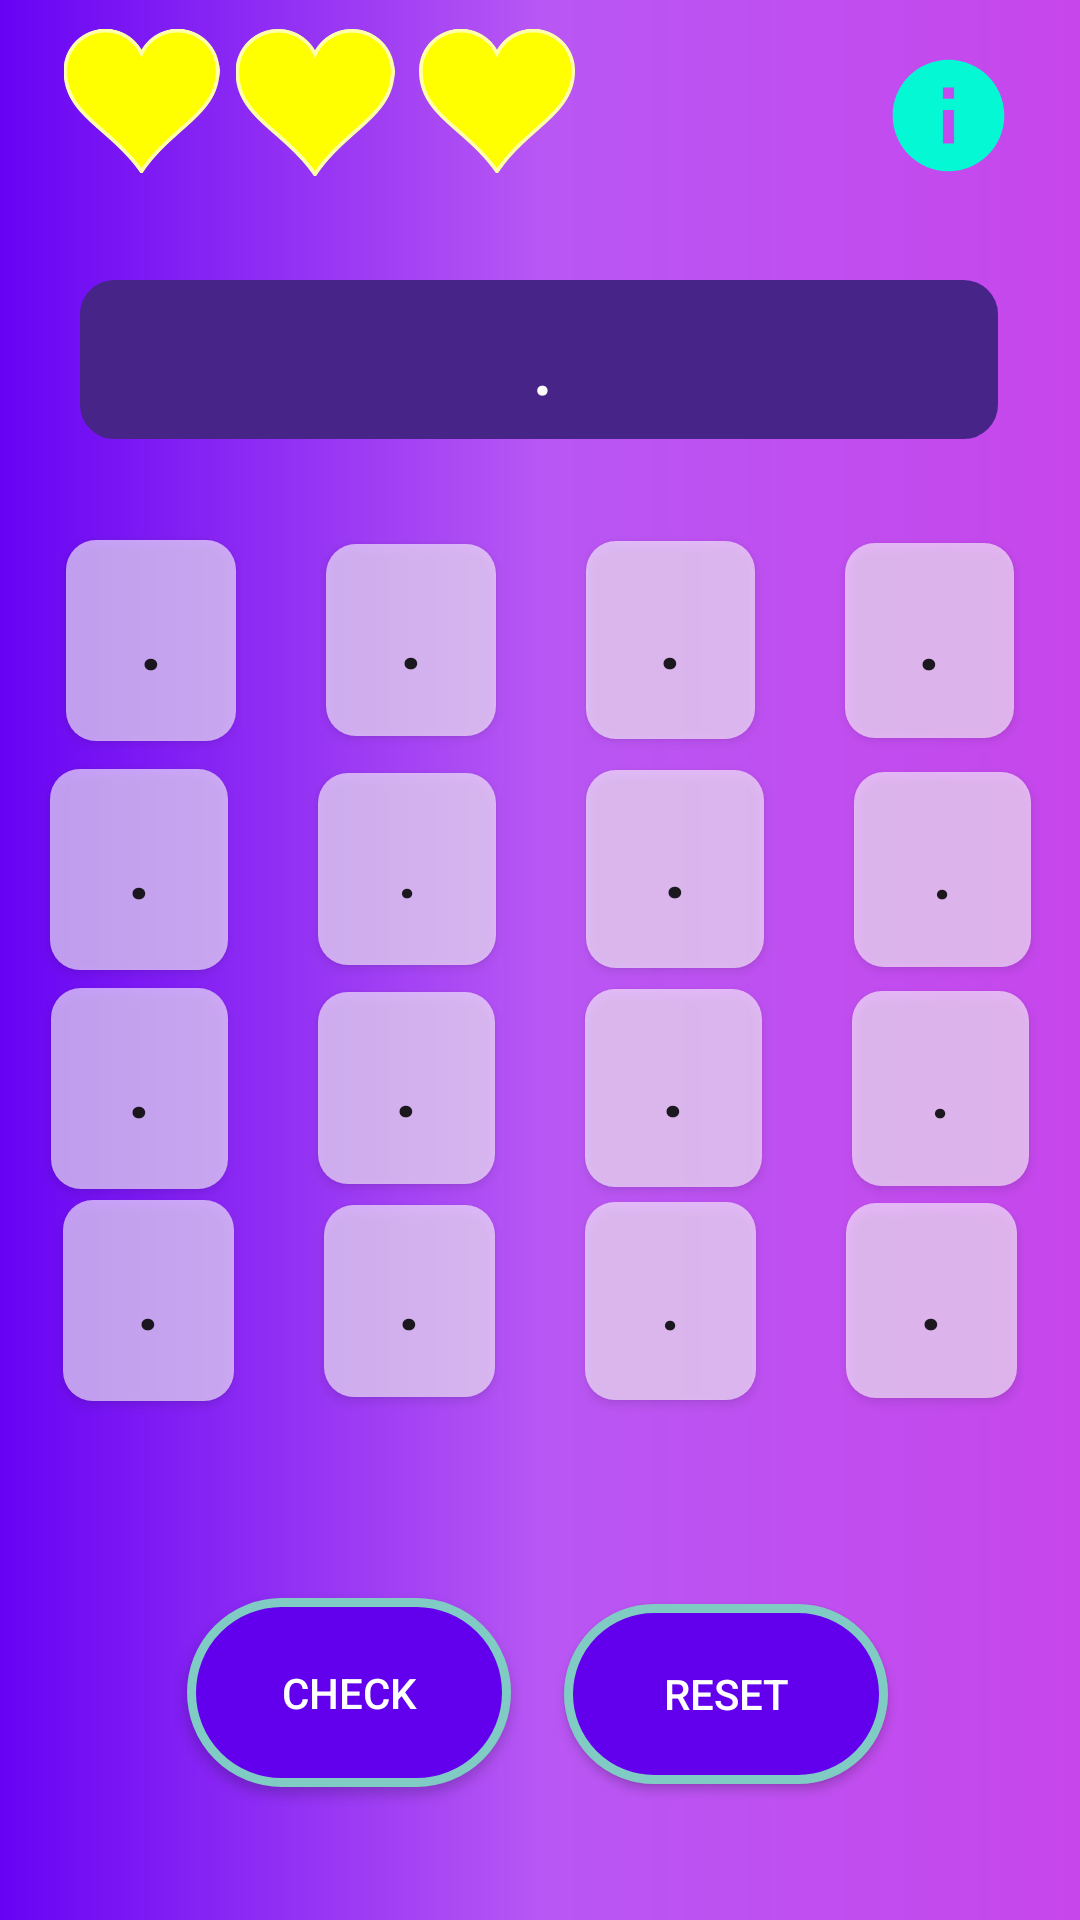

Named icons in this screenshot (1080px x 1920px) and their centers, [x,y]:
heart: [147,101], [310,102], [497,101]
info: [948,115]
